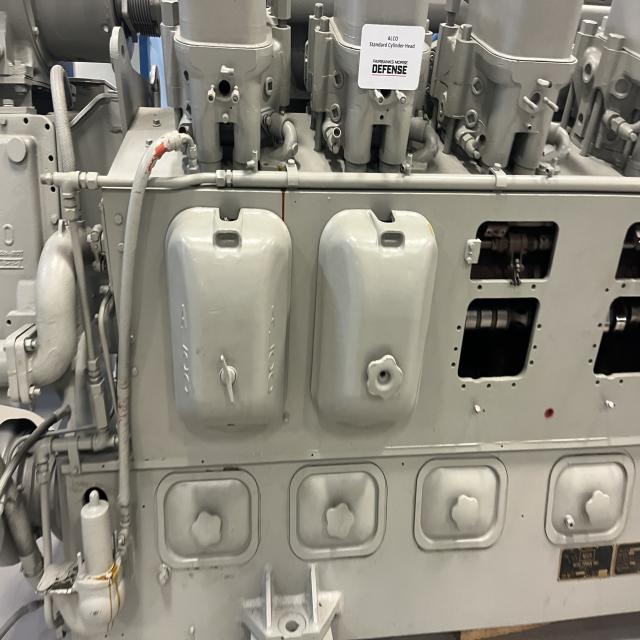Oil Leak: (90, 562, 121, 630), (281, 188, 287, 221), (277, 164, 287, 171)
